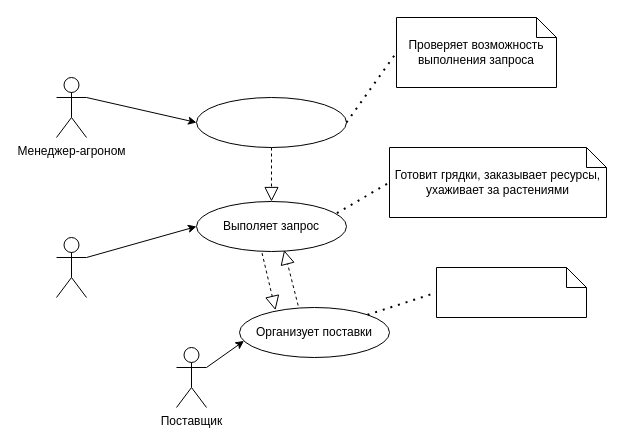
This 624x446 diagram has some shape labels left out. Each missing label, with the centre of its shape:
"Выполянет заказы поставки" belongs at pixel 511 292.
"Работник" belongs at pixel 71 267.
"Создает запрос" belongs at pixel 271 122.
